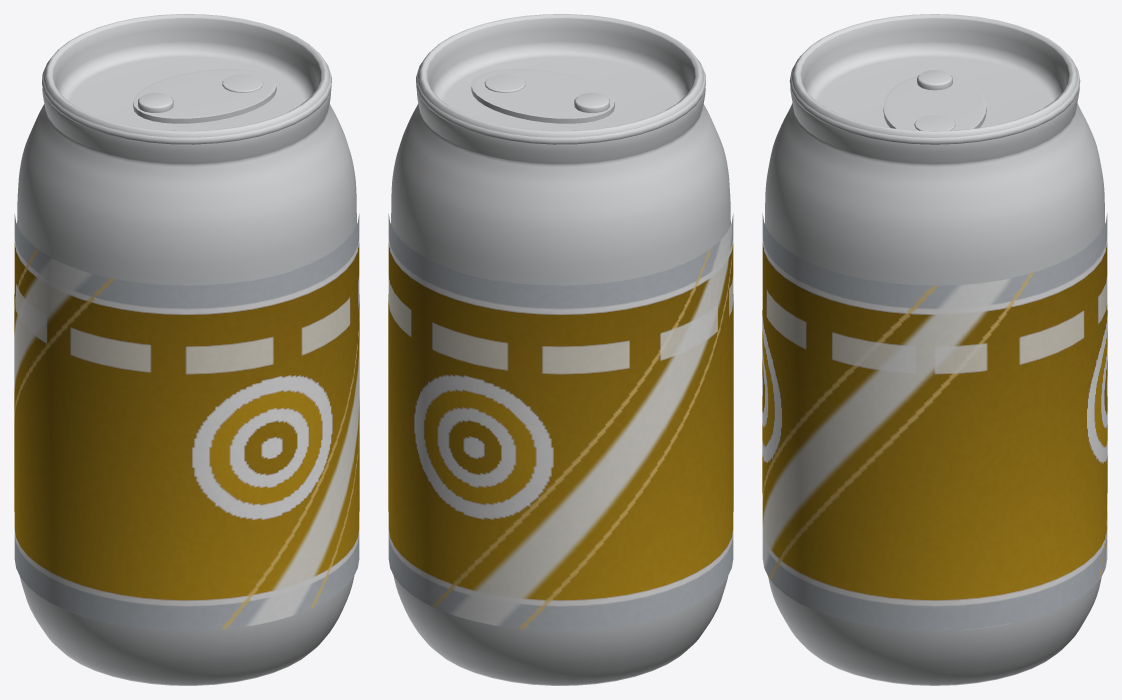
File: lata_aluminio_dorada.glb
3 renders of one model, left to right at view 1: azimuth 30°, elevation 25°; view 2: azimuth 150°, elevation 25°; view 3: azimuth 270°, elevation 25°, orthographic.
Parts seen in each view (by area): view 1: lata_banda, lata_cuerpo, lata_anilla, lata_borde; view 2: lata_banda, lata_cuerpo, lata_anilla, lata_borde; view 3: lata_banda, lata_cuerpo, lata_anilla, lata_borde.
Part boxes in pixels (x1=…): lata_banda: x1=14, y1=214, x2=359, y2=631; lata_cuerpo: x1=17, y1=14, x2=356, y2=685; lata_anilla: x1=133, y1=69, x2=276, y2=123; lata_borde: x1=42, y1=57, x2=331, y2=144; lata_banda: x1=388, y1=214, x2=733, y2=631; lata_cuerpo: x1=391, y1=14, x2=730, y2=685; lata_anilla: x1=471, y1=69, x2=614, y2=123; lata_borde: x1=416, y1=57, x2=705, y2=144; lata_banda: x1=762, y1=213, x2=1107, y2=631; lata_cuerpo: x1=765, y1=14, x2=1104, y2=685; lata_anilla: x1=883, y1=70, x2=986, y2=130; lata_borde: x1=789, y1=58, x2=1080, y2=144.
Size of the model in its own units: 0.067 by 0.119 by 0.067.
Materials: 2 (1 with a texture image).
